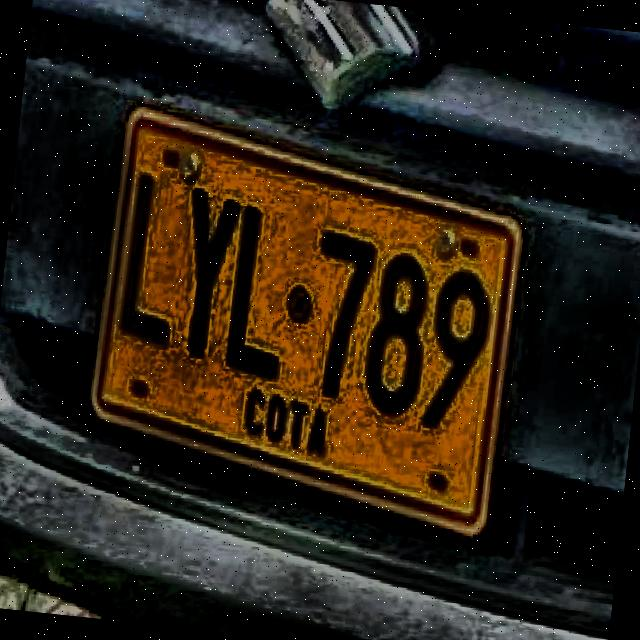7: (304, 226, 386, 404)
8: (355, 243, 437, 431)
9: (413, 260, 499, 445)
L: (112, 163, 187, 351), (219, 199, 285, 386)
Y: (169, 184, 245, 368)
